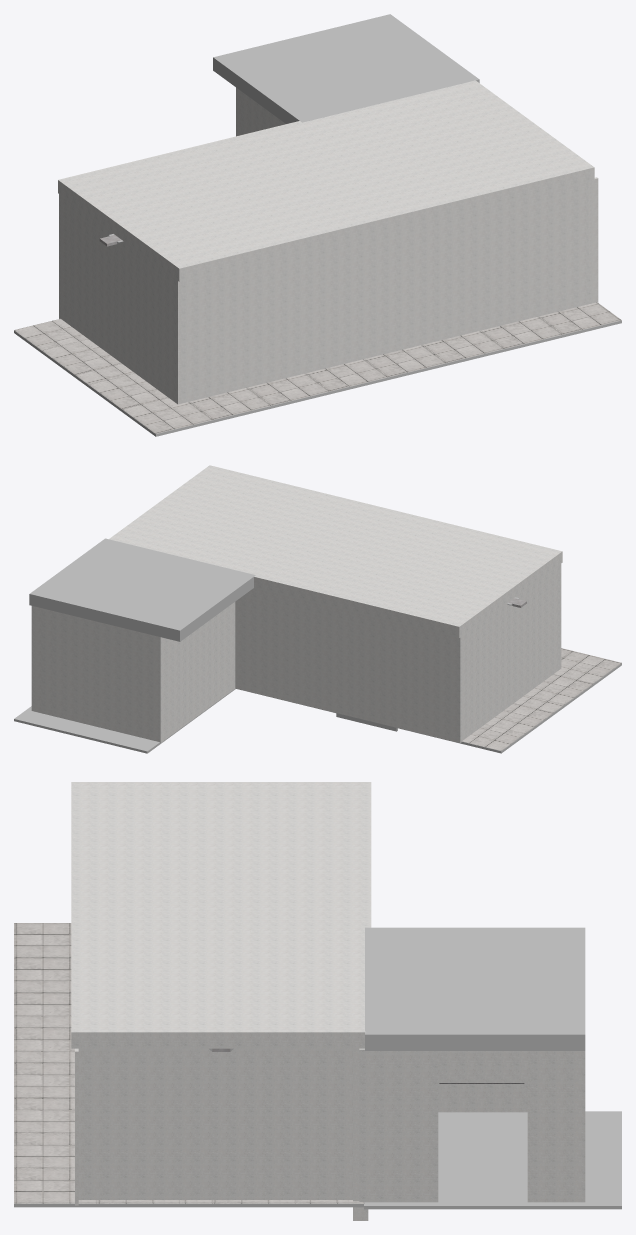
File: scp_room_513.dae
3 views of the same model, one above another, from view 1: azimuth 30°, elevation 25°; view 2: azimuth 150°, elevation 25°; view 3: azimuth 270°, elevation 25° (orthographic). The views are drawn at different scales.
Parts seen in each view (by area): view 1: SCP 513 Containment Chamber.010, SCP 513 Containment Chamber.006, SCP 513 Containment Chamber.007, SCP 513 Containment Chamber.002; view 2: SCP 513 Containment Chamber.010, SCP 513 Containment Chamber.007, SCP 513 Containment Chamber.006, SCP 513 Containment Chamber.012, SCP 513 Containment Chamber.002; view 3: SCP 513 Containment Chamber.010, SCP 513 Containment Chamber.007, SCP 513 Containment Chamber.006, SCP 513 Containment Chamber.012, SCP 513 Containment Chamber.002.
Boxes of the visible parts, x1,y1,x2,y2 form: SCP 513 Containment Chamber.010: (58,80,598,404); SCP 513 Containment Chamber.006: (14,302,621,433); SCP 513 Containment Chamber.007: (213,14,479,123); SCP 513 Containment Chamber.002: (14,234,621,436); SCP 513 Containment Chamber.010: (31,465,562,743); SCP 513 Containment Chamber.007: (29,538,397,731); SCP 513 Containment Chamber.006: (462,648,621,750); SCP 513 Containment Chamber.012: (14,688,235,753); SCP 513 Containment Chamber.002: (236,597,621,753); SCP 513 Containment Chamber.010: (71,782,585,1220); SCP 513 Containment Chamber.007: (365,927,585,1050); SCP 513 Containment Chamber.006: (14,923,364,1203); SCP 513 Containment Chamber.012: (364,1111,621,1209); SCP 513 Containment Chamber.002: (14,1048,363,1207).
Bounding box in the file's own units: 37.05 × 33.67 × 11.52.
